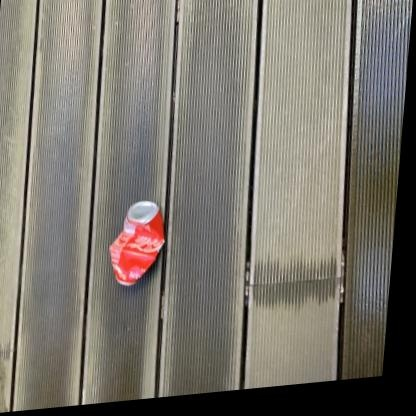trash: (109, 201, 164, 285)
